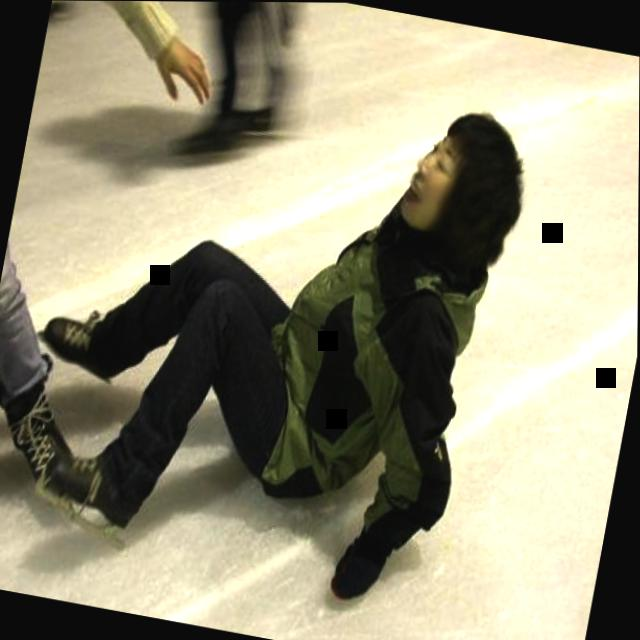Fall-Detected: (0, 16, 529, 614)
